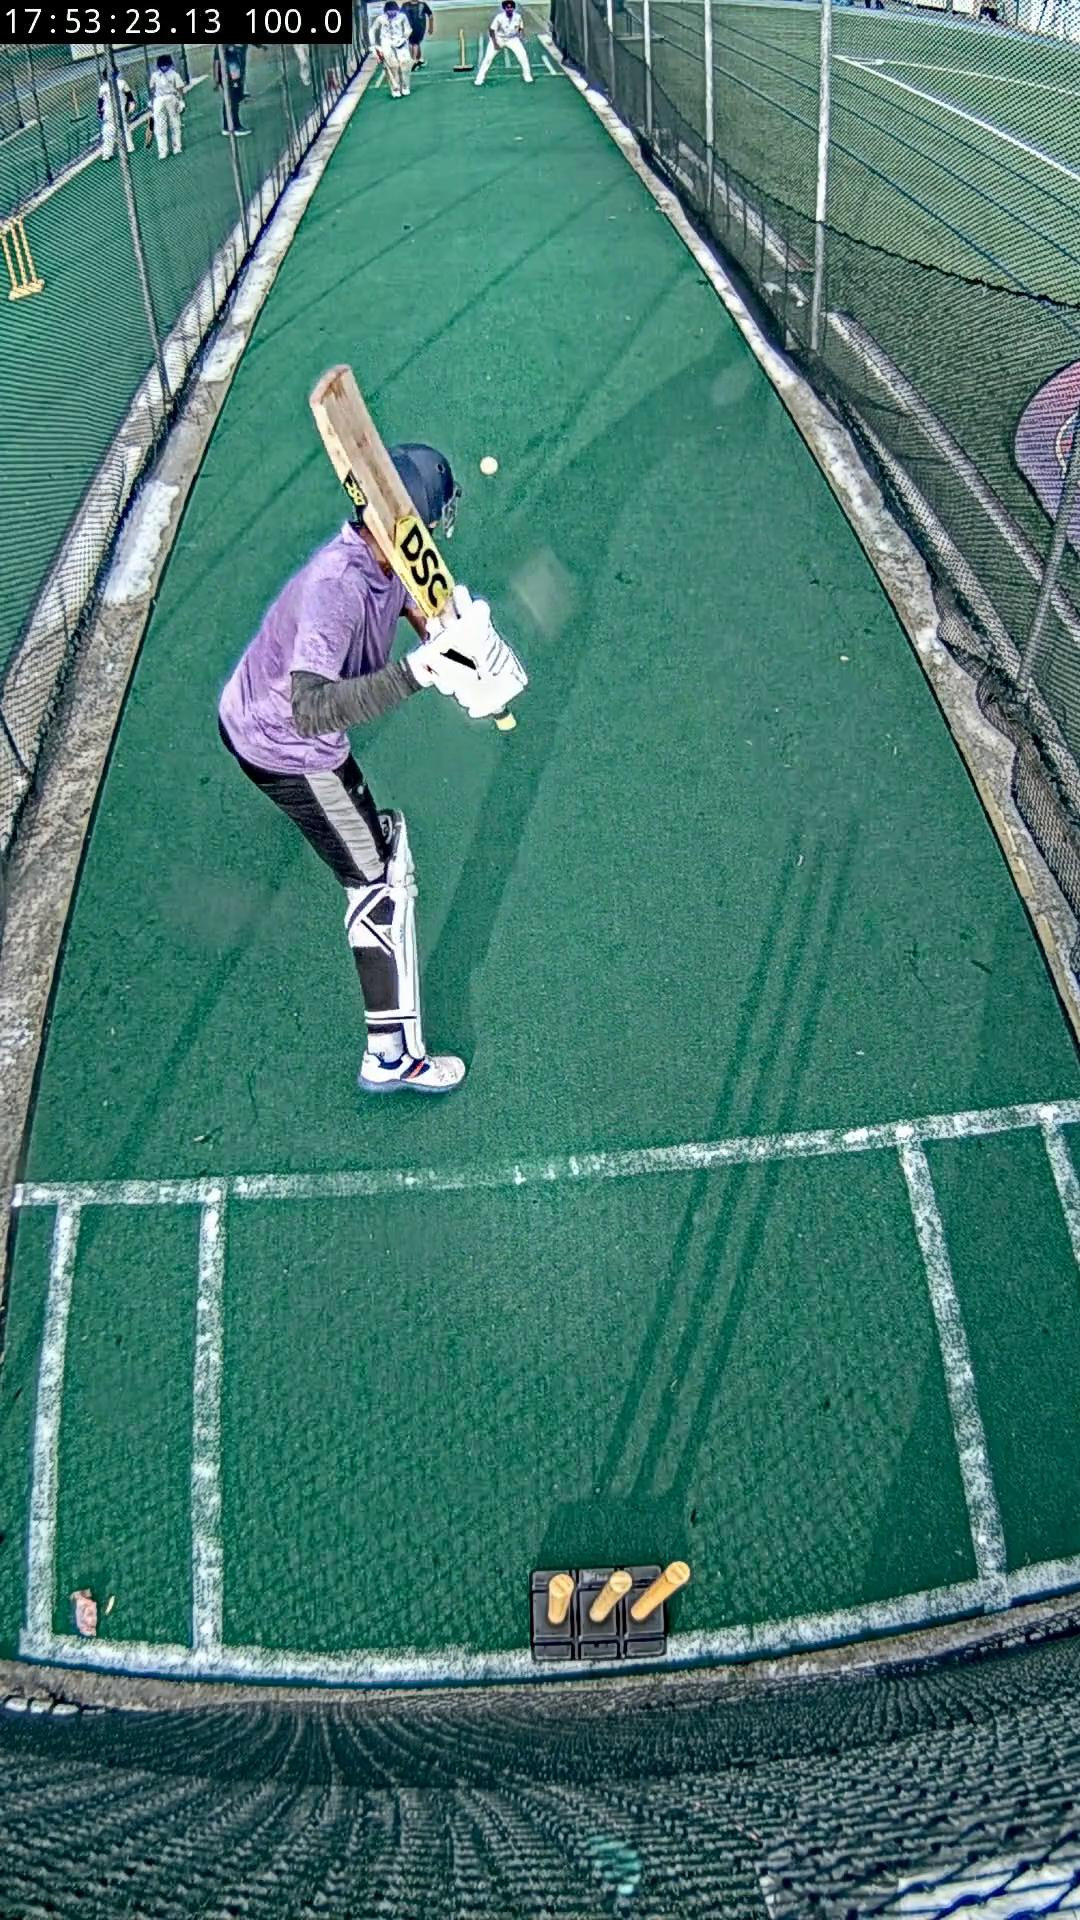ball: (480, 458, 498, 476)
bat: (311, 364, 454, 618)
gloves: (409, 585, 529, 720)
helmet: (386, 443, 458, 527)
pads: (360, 810, 419, 1021)
stumps: (529, 1560, 690, 1663)
